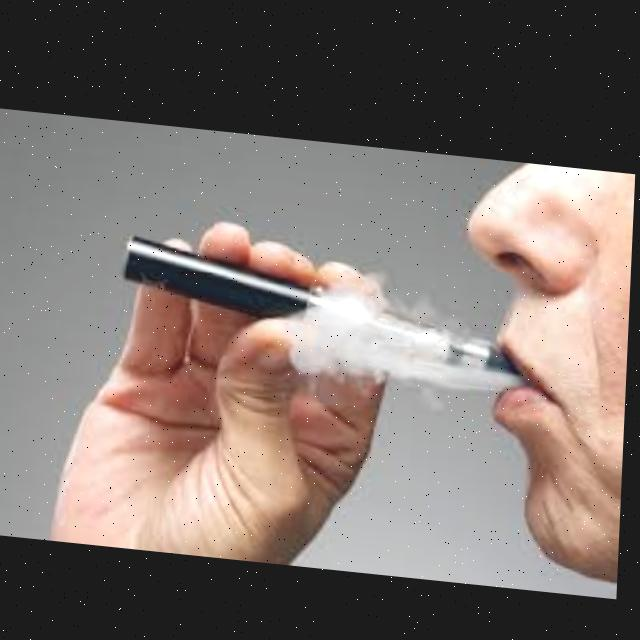vape: (123, 231, 534, 380)
